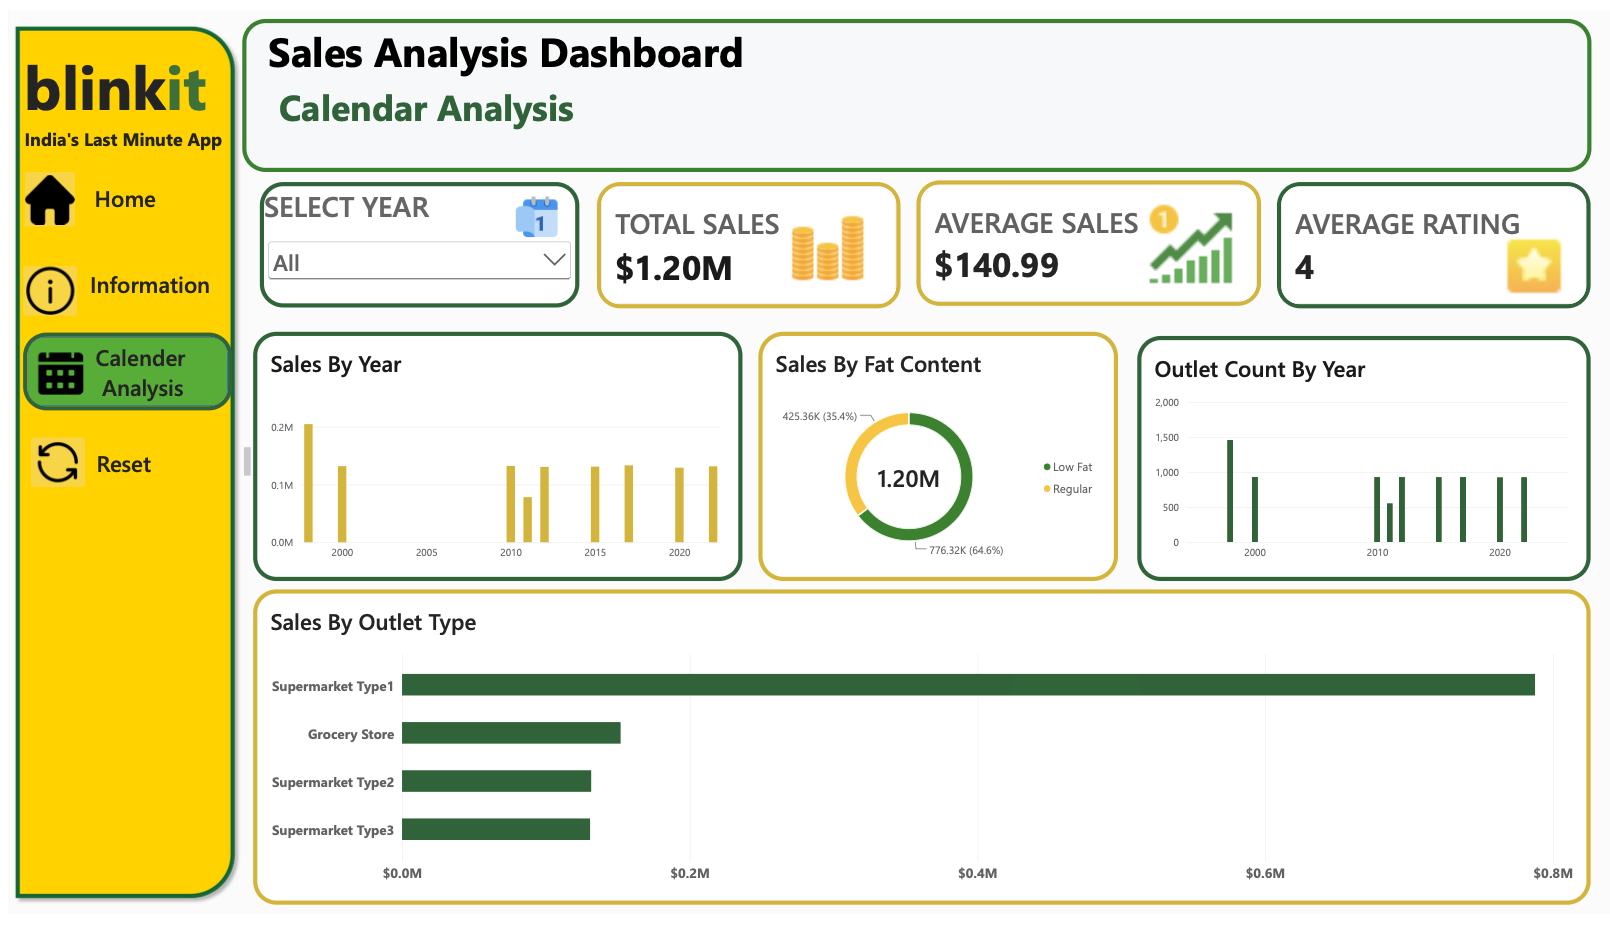

Layout of this report page (visuals, bound fields, positions):
{"tool":"powerbi","page":{"name":"Calendar Analysis","canvas":[1920,1080],"ordinal":2},"visuals":[{"type":"textbox","box":[280,10,1613.3,183.3],"z":0},{"type":"image","box":[20,402.5,85,75],"z":1000},{"type":"cardVisual","fields":{"Data":["BlinkIT Grocery Data.Total Sales"]},"box":[703.8,205.2,362.7,150.3],"z":2000},{"type":"cardVisual","fields":{"Data":["BlinkIT Grocery Data.Avg Sales"]},"box":[1085.6,202.8,412.5,150],"z":3000},{"type":"cardVisual","fields":{"Data":["BlinkIT Grocery Data.Avg Rating"]},"box":[1517.4,205.2,374.6,150.3],"z":4000},{"type":"slicer","title":"SELECT YEAR","fields":{"Values":["BlinkIT Grocery Data.Outlet Establishment Year"]},"box":[300.6,205.2,382.5,150],"z":5000},{"type":"shape","box":[0,0,280,1080],"z":6000},{"type":"textbox","box":[20,40,295,120],"z":7000},{"type":"textbox","box":[20,137.5,260,55],"z":8000},{"type":"actionButton","box":[20,192.5,60,65],"z":9000},{"type":"textbox","box":[92.5,205,95,62.5],"z":10000},{"type":"actionButton","box":[17.5,305,65,60],"z":11000},{"type":"textbox","box":[80,307.5,180,57.5],"z":12000},{"type":"textbox","box":[420,385,165,70],"z":13000},{"type":"shape","box":[17.5,385,250,92.5],"z":14000},{"type":"image","box":[25,405,75,57.5],"z":15000},{"type":"textbox","box":[105,395,150,90],"z":16000},{"type":"image","box":[765.9,391.3,87.5,97.5],"z":17000},{"type":"image","box":[1782.3,255.3,85,100],"z":18000},{"type":"image","box":[920,232.5,120,102.5],"z":19000},{"type":"image","box":[1355,220,117.5,117.5],"z":20000},{"type":"image","box":[582.2,217.1,100.2,59.6],"z":21000},{"type":"actionButton","box":[26.7,510,65,60],"z":22000},{"type":"columnChart","title":"Sales By Year","fields":{"Category":["BlinkIT Grocery Data.Outlet Establishment Year"],"Y":["Sum(BlinkIT Grocery Data. Sales)"]},"box":[293.5,384.1,584.5,298.2],"z":23000},{"type":"columnChart","title":"Outlet Count By Year","fields":{"Category":["BlinkIT Grocery Data.Outlet Establishment Year"],"Y":["CountNonNull(BlinkIT Grocery Data.Outlet Identifier)"]},"box":[1350.4,388.9,541.6,293.5],"z":24000},{"type":"donutChart","title":"Sales By Fat Content","fields":{"Category":["BlinkIT Grocery Data.Item Fat Content"],"Y":["Sum(BlinkIT Grocery Data. Sales)"]},"box":[897.1,384.1,429.5,298.2],"z":25000},{"type":"barChart","title":"Sales By Outlet Type","fields":{"Category":["BlinkIT Grocery Data.Outlet Type"],"Y":["BlinkIT Grocery Data.Total Sales"]},"box":[293.5,691.9,1598.6,377],"z":26000},{"type":"textbox","box":[105.6,522.2,184.4,34.4],"z":26001}]}

Visuals, with their boxes in screenshot pixels (x1, y1, x2, y2), scaled from the page's 1920x1080 canvas onto the 1610x926 screenshot:
textbox: bbox=[235, 9, 1588, 166]
image: bbox=[17, 345, 88, 409]
cardVisual - BlinkIT Grocery Data.Total Sales: bbox=[590, 176, 894, 305]
cardVisual - BlinkIT Grocery Data.Avg Sales: bbox=[910, 174, 1256, 302]
cardVisual - BlinkIT Grocery Data.Avg Rating: bbox=[1272, 176, 1587, 305]
"SELECT YEAR" slicer: bbox=[252, 176, 573, 305]
shape: bbox=[0, 0, 235, 925]
textbox: bbox=[17, 34, 264, 137]
textbox: bbox=[17, 118, 235, 165]
actionButton: bbox=[17, 165, 67, 221]
textbox: bbox=[78, 176, 157, 229]
actionButton: bbox=[15, 262, 69, 313]
textbox: bbox=[67, 264, 218, 313]
textbox: bbox=[352, 330, 491, 390]
shape: bbox=[15, 330, 224, 409]
image: bbox=[21, 347, 84, 397]
textbox: bbox=[88, 339, 214, 416]
image: bbox=[642, 336, 716, 419]
image: bbox=[1495, 219, 1566, 305]
image: bbox=[771, 199, 872, 287]
image: bbox=[1136, 189, 1235, 289]
image: bbox=[488, 186, 572, 237]
actionButton: bbox=[22, 437, 77, 489]
"Sales By Year" columnChart: bbox=[246, 329, 736, 585]
"Outlet Count By Year" columnChart: bbox=[1132, 333, 1587, 585]
"Sales By Fat Content" donutChart: bbox=[752, 329, 1112, 585]
"Sales By Outlet Type" barChart: bbox=[246, 593, 1587, 916]
textbox: bbox=[89, 448, 243, 477]
